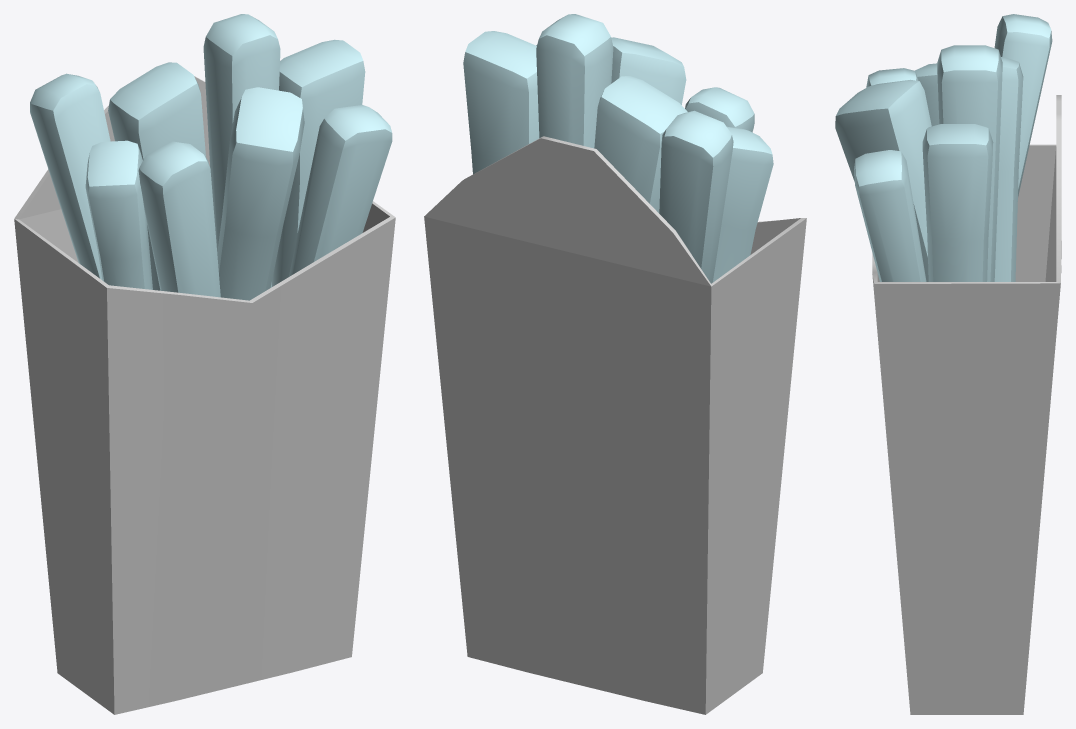
Rendered from Fries_Pack_Full.fbx.
The picture shows the model from 3 angles, left to right: view 1: azimuth 30°, elevation 25°; view 2: azimuth 150°, elevation 25°; view 3: azimuth 270°, elevation 25°; orthographic projection.
Parts seen in each view (by area): view 1: Fries Pack_Full; view 2: Fries Pack_Full; view 3: Fries Pack_Full.
Part boxes in pixels (x1=…): Fries Pack_Full: x1=14, y1=14, x2=395, y2=714; Fries Pack_Full: x1=424, y1=14, x2=806, y2=714; Fries Pack_Full: x1=835, y1=14, x2=1061, y2=714.
Bounding box in the file's own units: 0.1026 × 0.2134 × 0.0699.
